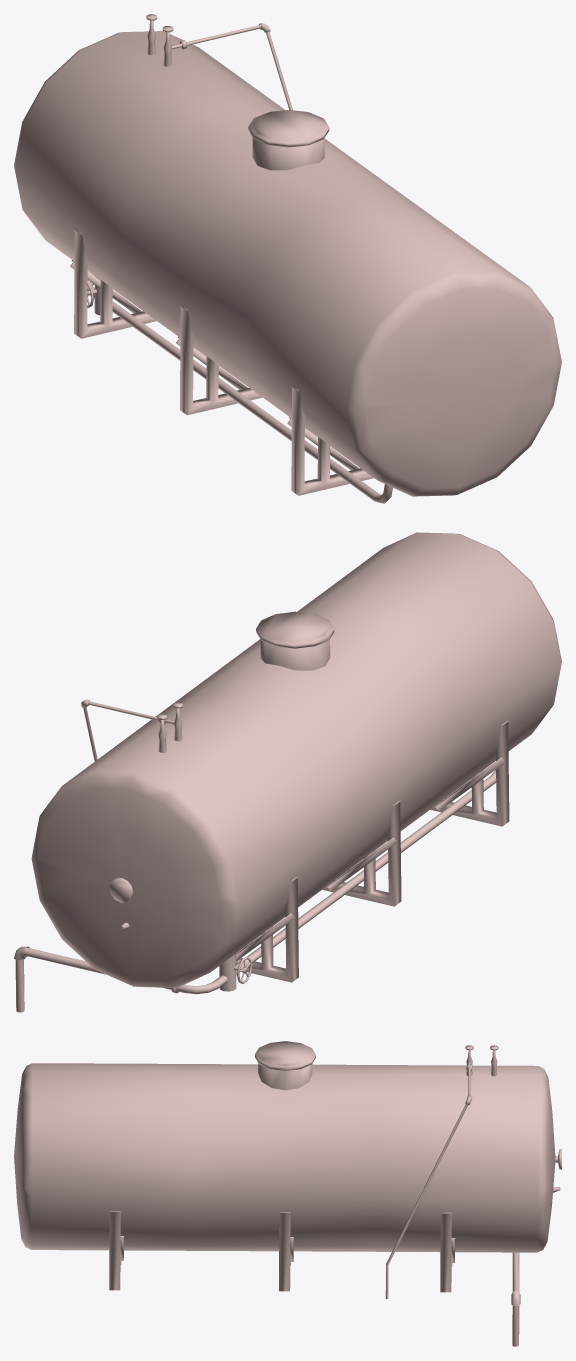
File: tankcapacity1.fbx
3 renders of one model, top to bottom at view 1: azimuth 30°, elevation 25°; view 2: azimuth 150°, elevation 25°; view 3: azimuth 270°, elevation 25°, orthographic. The views are drawn at different scales.
Visible parts, largest first — view 1: capacity_cod4_01; view 2: capacity_cod4_01; view 3: capacity_cod4_01.
Boxes of the visible parts, x1,y1,x2,y2 form: capacity_cod4_01: (14, 14, 561, 503); capacity_cod4_01: (14, 532, 561, 1012); capacity_cod4_01: (14, 1041, 561, 1346).
Bounding box in the file's own units: 230 × 290 × 578.
